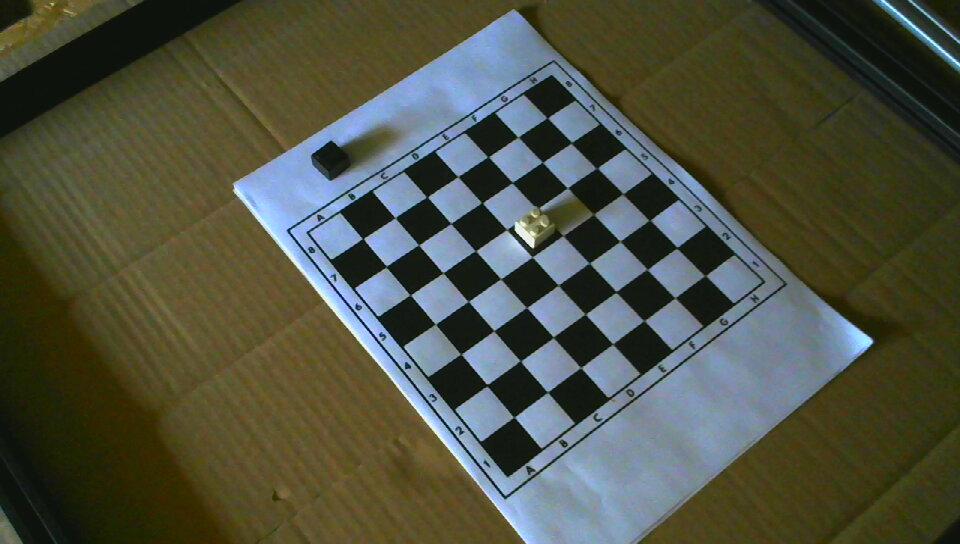bp: (311, 140, 350, 181)
wp: (514, 207, 557, 249)
